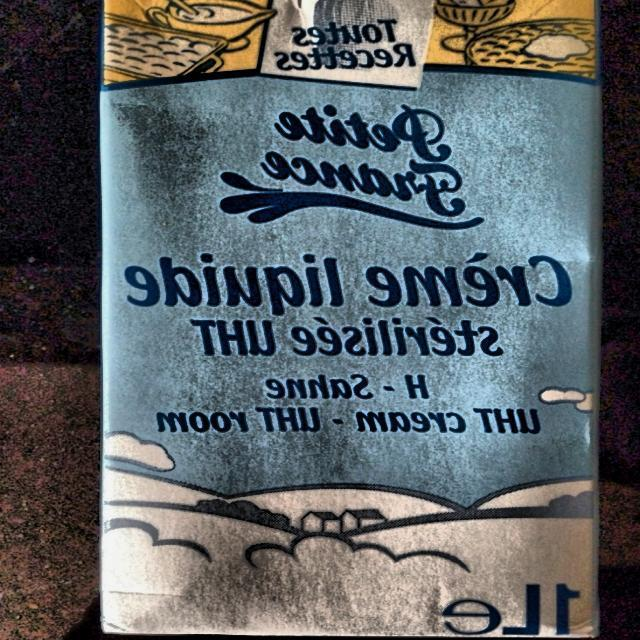cardboard: (98, 0, 602, 639)
